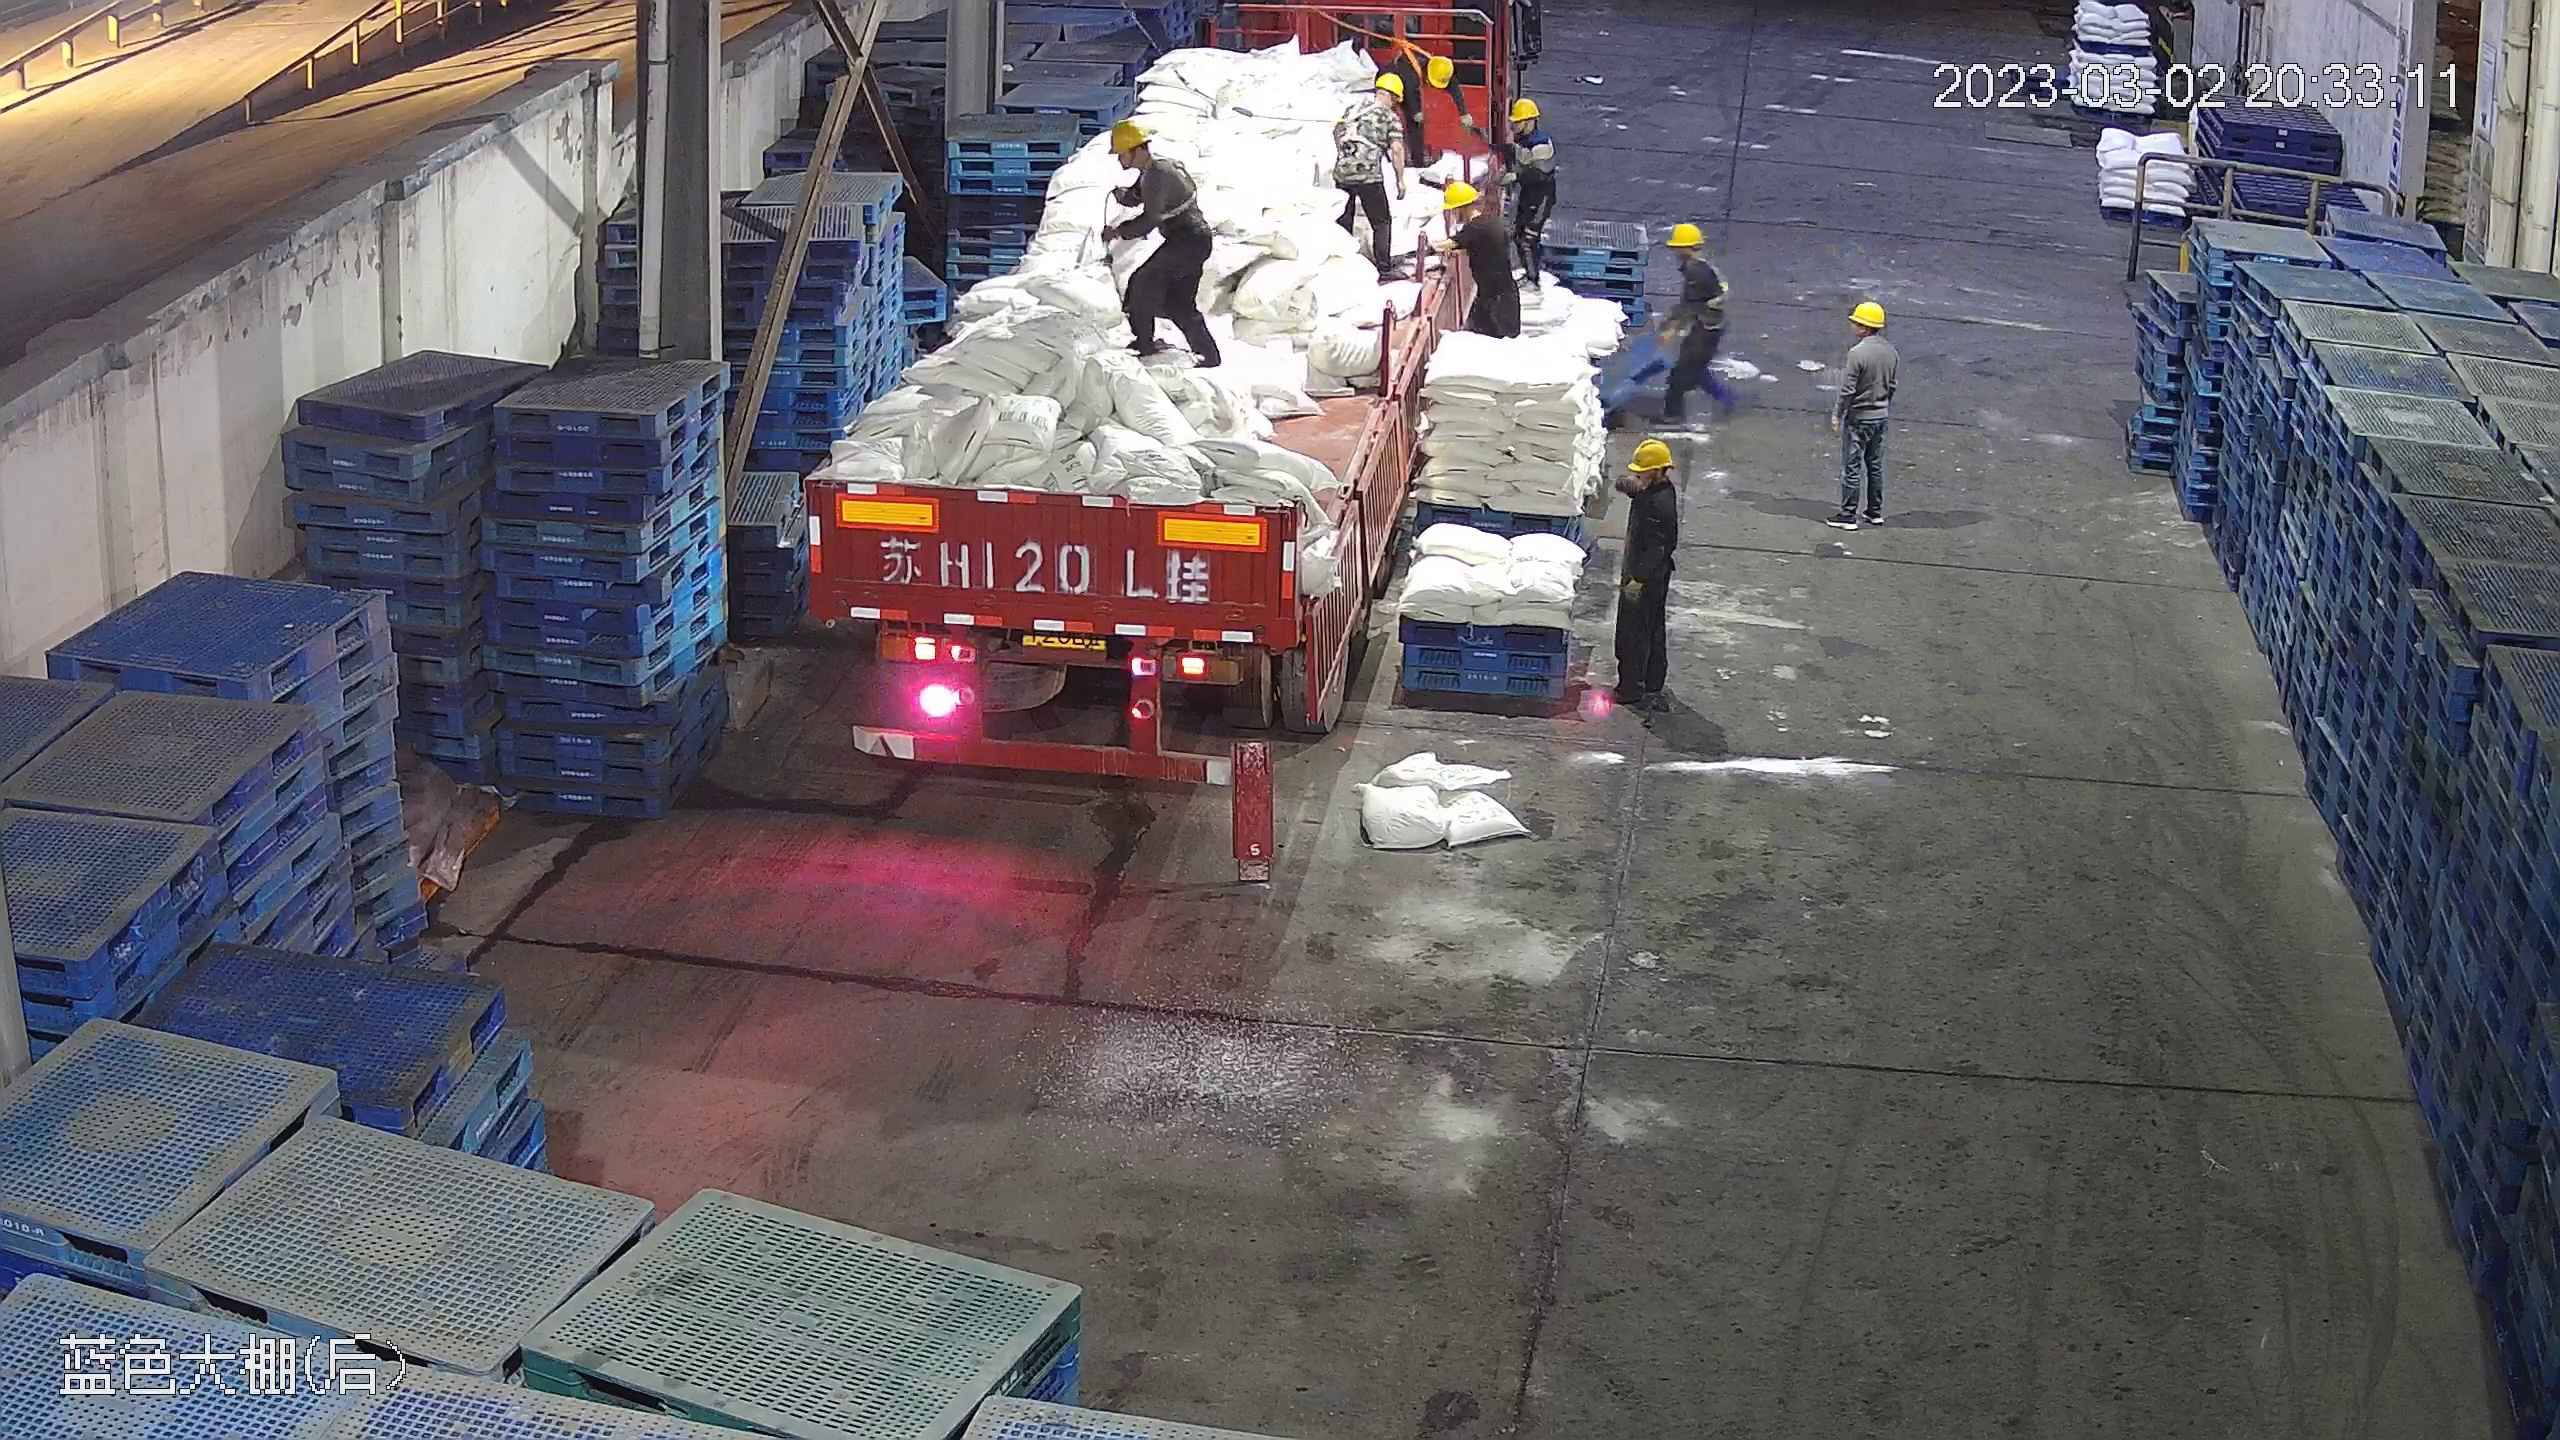belt: (1144, 156, 1205, 218), (1331, 102, 1382, 158), (1338, 95, 1387, 152), (1690, 260, 1730, 309), (1380, 33, 1426, 73)
head: (1430, 180, 1508, 265), (1108, 117, 1188, 200), (1621, 436, 1680, 524), (1349, 71, 1411, 138), (1666, 221, 1724, 291), (1838, 300, 1895, 371), (1500, 97, 1554, 156), (1412, 49, 1457, 92)
helmet: (1105, 115, 1152, 155), (1629, 436, 1677, 470), (1443, 177, 1480, 211), (1424, 53, 1457, 87), (1847, 300, 1884, 327), (1373, 70, 1409, 99), (1669, 221, 1705, 247), (1510, 98, 1539, 119)
people: (1098, 115, 1218, 369), (1607, 435, 1684, 711), (1823, 293, 1899, 533), (1652, 220, 1731, 432), (1329, 73, 1411, 276), (1496, 89, 1561, 303), (1440, 166, 1516, 334)
truck: (770, 1, 1521, 818)
